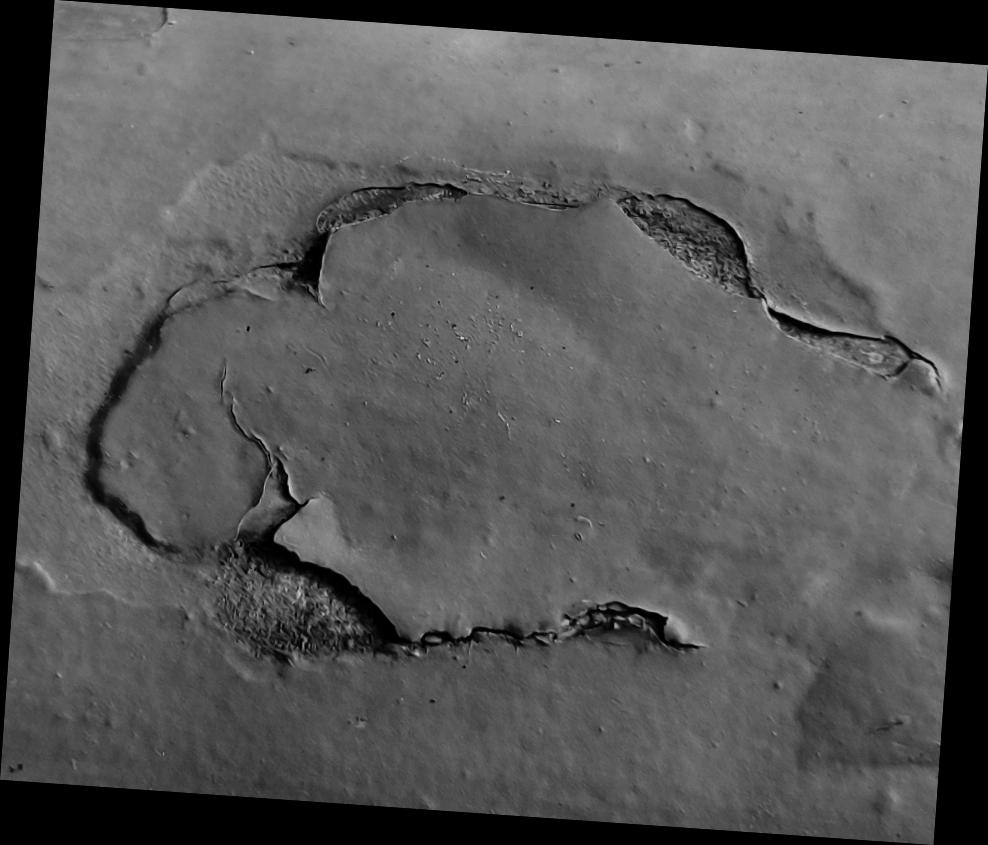paint-off: (0, 1, 987, 845)
